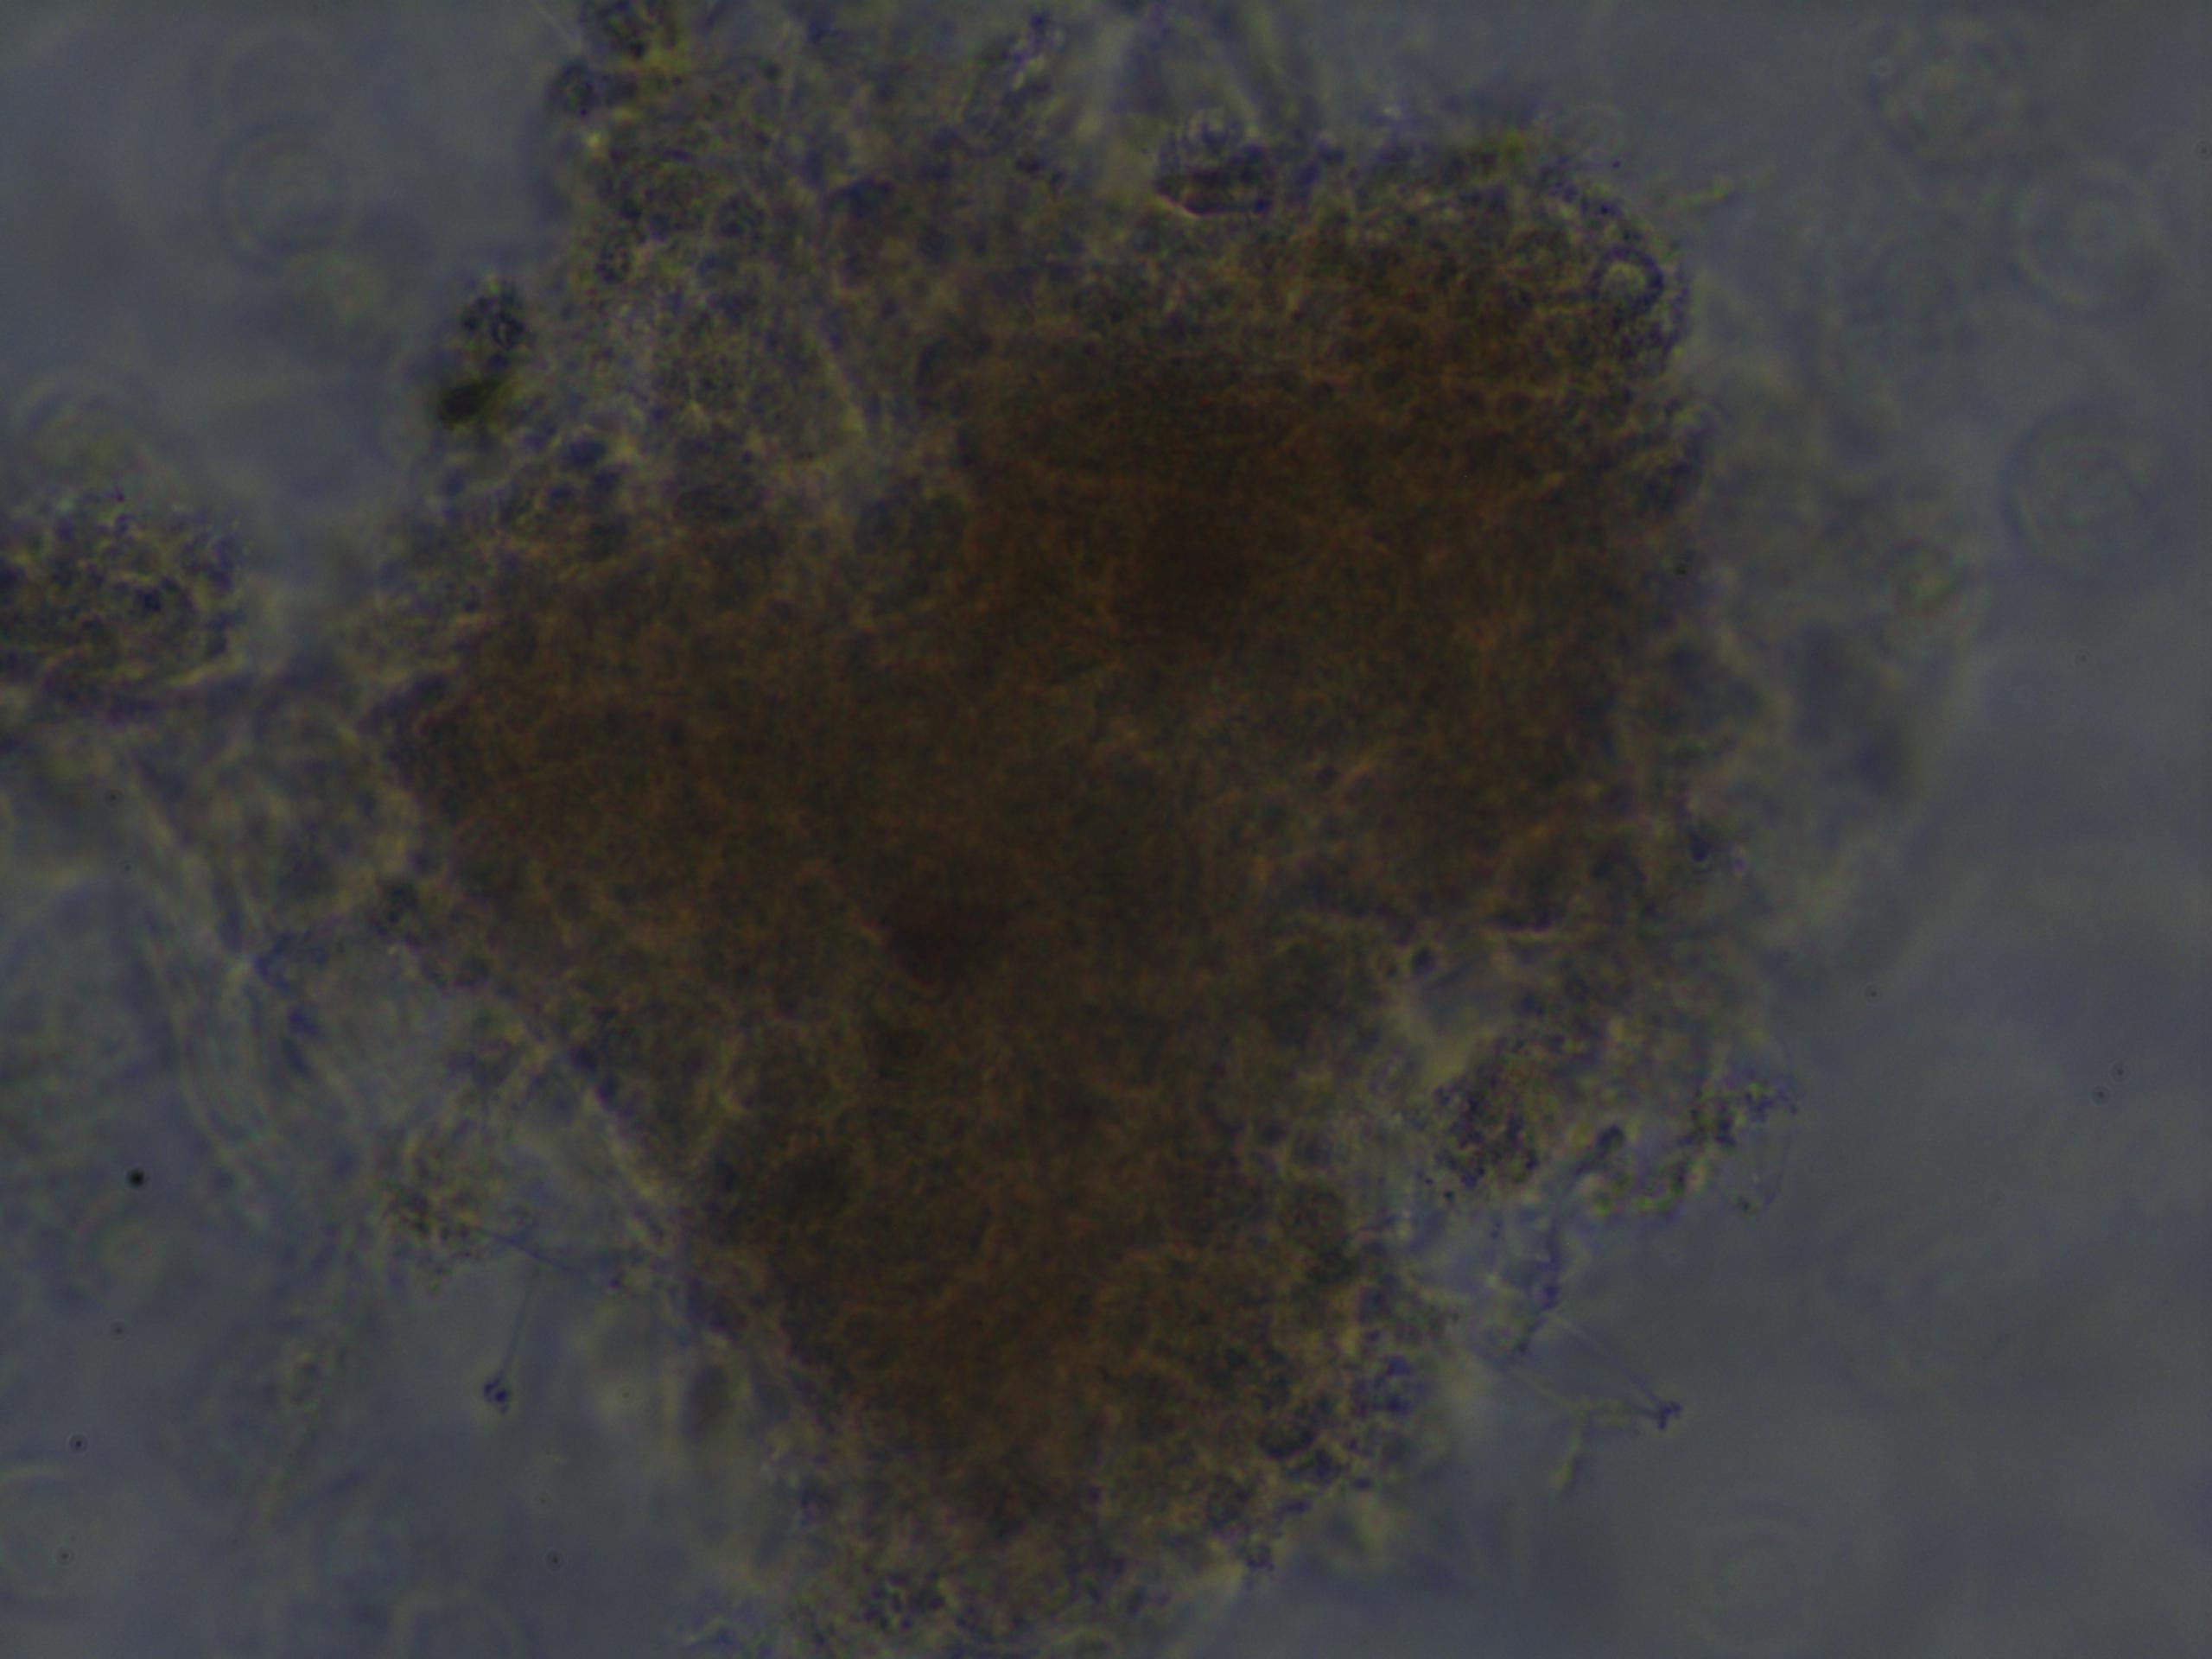spherical_floc: (291, 63, 1778, 1659)
